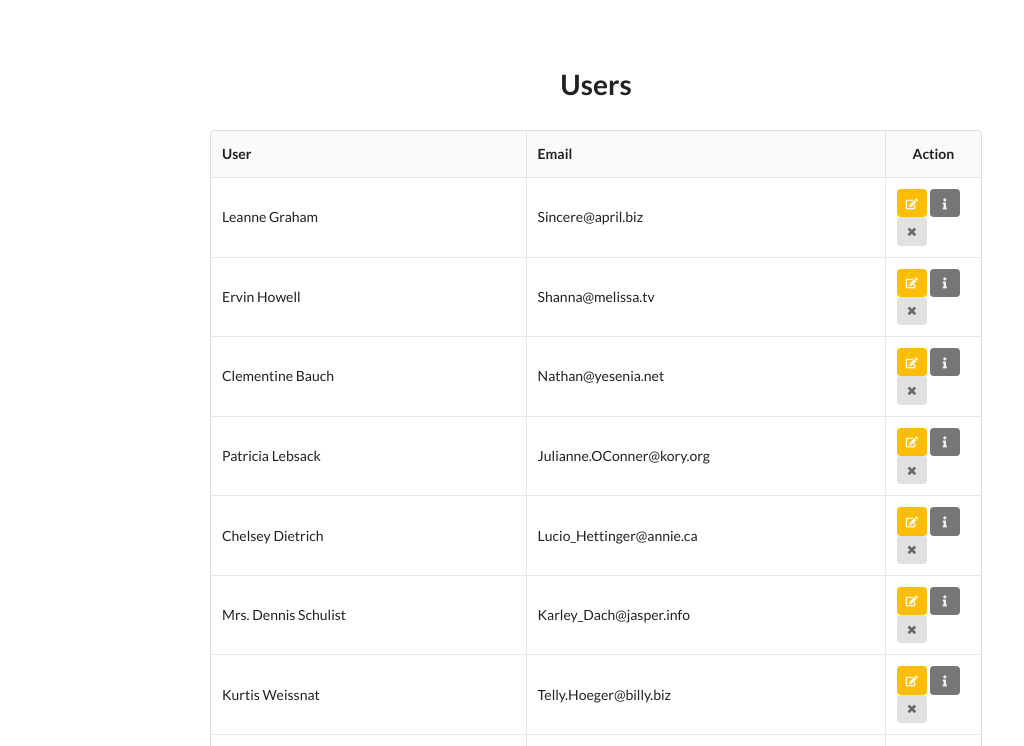
Test: Users Page Testing › should delete selected user from state
Step 1. Click the button with test id "delete-button-1" → (912, 231), box 897,217 -> 927,246
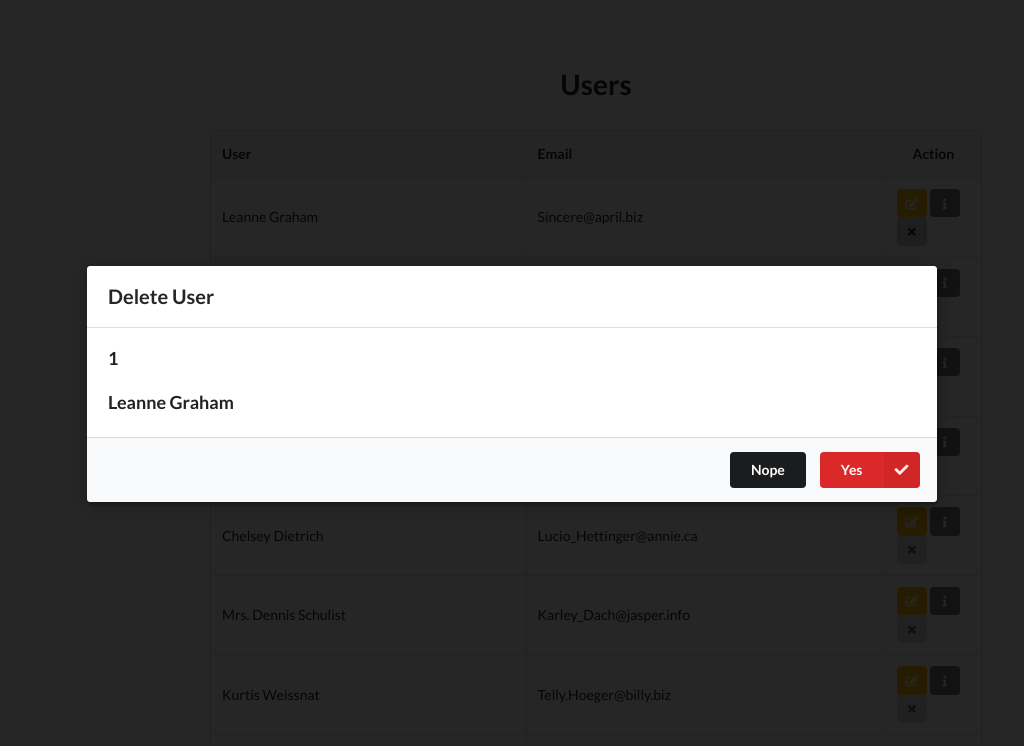
Step 2. Click the button with test id "yes-button" → (870, 470), box 820,452 -> 920,488
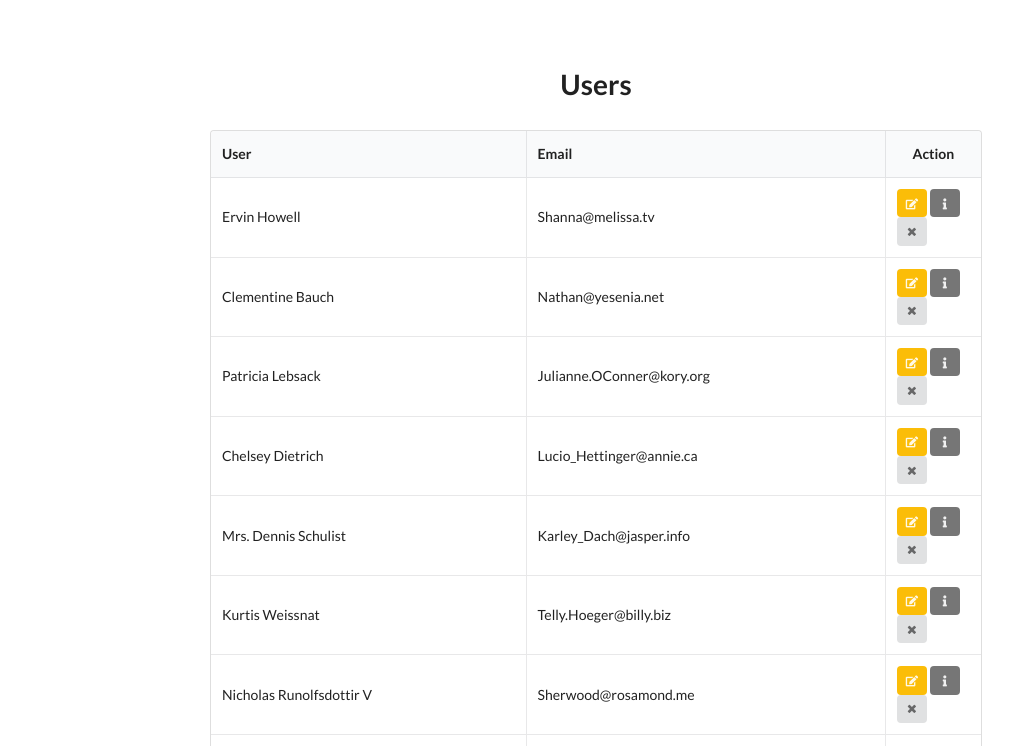
Check: the text "Leanne Graham" is gone
